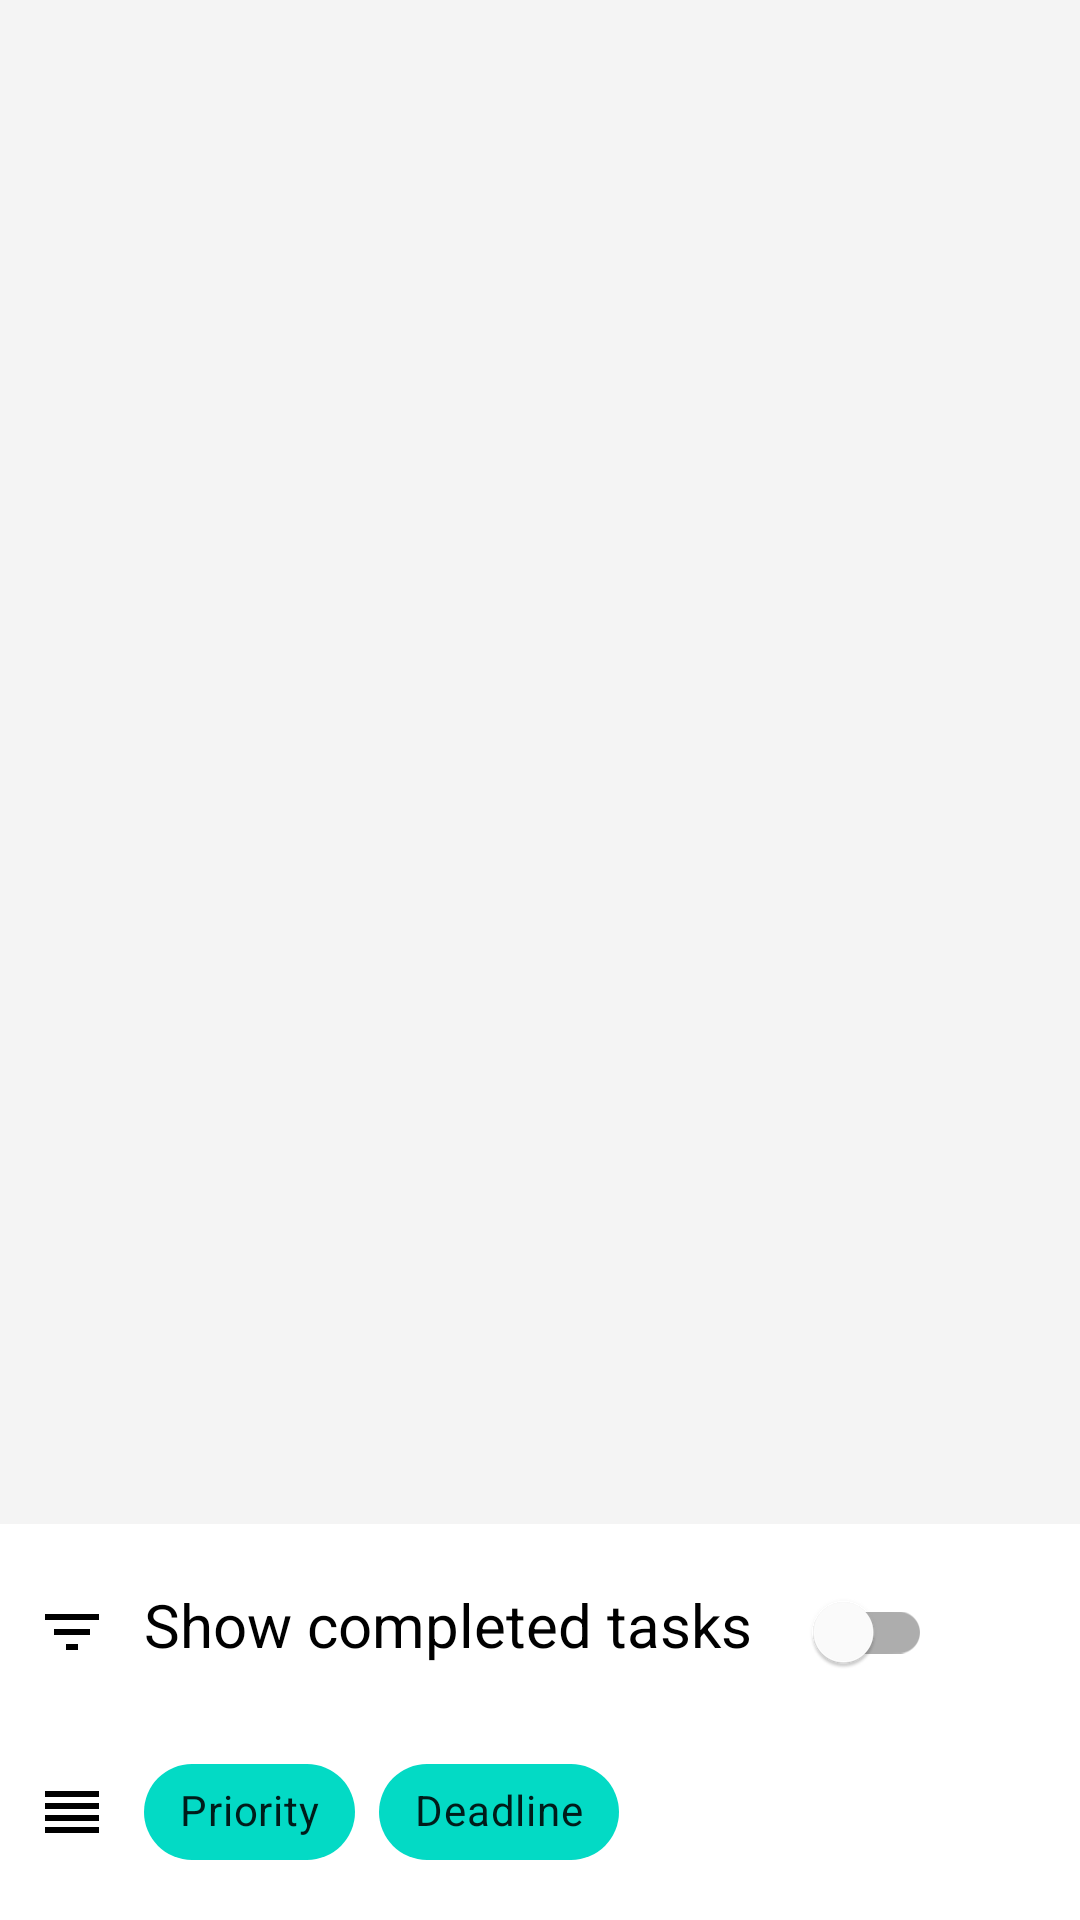

Icon bounding boxes for this 1080 x 1920 phone screenshot, format (x1, y1, x2, y2):
filter list: (45, 1614, 99, 1650)
reorder: (45, 1791, 99, 1833)
